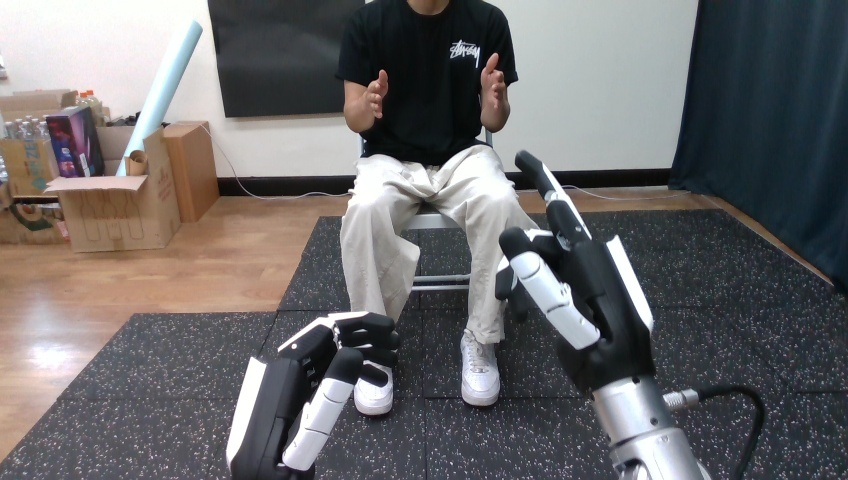left robot arm: (496, 151, 764, 479), (498, 151, 708, 479)
left robot hand: (496, 151, 764, 479)
right robot arm: (496, 151, 764, 479)
right robot hand: (496, 151, 764, 479)
